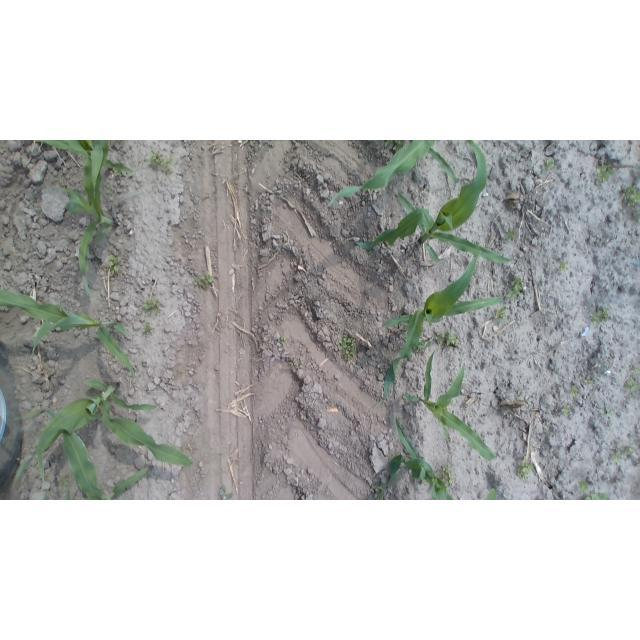Maize: (377, 246, 515, 407), (12, 373, 198, 492), (354, 142, 515, 263), (16, 406, 157, 500), (0, 286, 140, 379), (401, 347, 495, 462), (385, 417, 504, 500), (326, 141, 466, 210), (60, 141, 118, 300), (39, 140, 136, 174)
Weeds: (147, 150, 176, 173), (594, 161, 616, 186), (588, 305, 611, 327), (338, 335, 357, 361), (620, 183, 640, 207), (506, 276, 525, 301), (437, 464, 456, 488), (437, 330, 461, 349), (193, 271, 215, 290), (516, 459, 535, 480), (493, 304, 511, 323), (107, 253, 121, 275), (144, 298, 161, 314), (218, 484, 235, 500), (111, 161, 126, 179), (382, 140, 404, 152), (541, 156, 556, 172), (417, 337, 433, 352), (371, 485, 387, 500), (582, 492, 611, 500), (58, 473, 73, 488), (624, 379, 640, 393), (597, 361, 611, 375), (560, 403, 573, 418), (503, 229, 519, 241), (577, 480, 591, 493), (604, 409, 616, 422), (142, 322, 154, 335), (276, 334, 288, 346), (570, 385, 581, 398), (612, 450, 622, 463), (559, 261, 569, 274), (625, 444, 635, 457), (174, 367, 186, 377), (584, 378, 596, 387), (630, 363, 639, 374), (542, 427, 551, 436), (546, 257, 554, 265), (616, 443, 623, 451), (295, 362, 301, 370), (637, 209, 640, 222), (550, 287, 555, 294), (516, 396, 521, 401), (107, 190, 113, 194), (372, 199, 377, 203), (289, 362, 293, 365)
